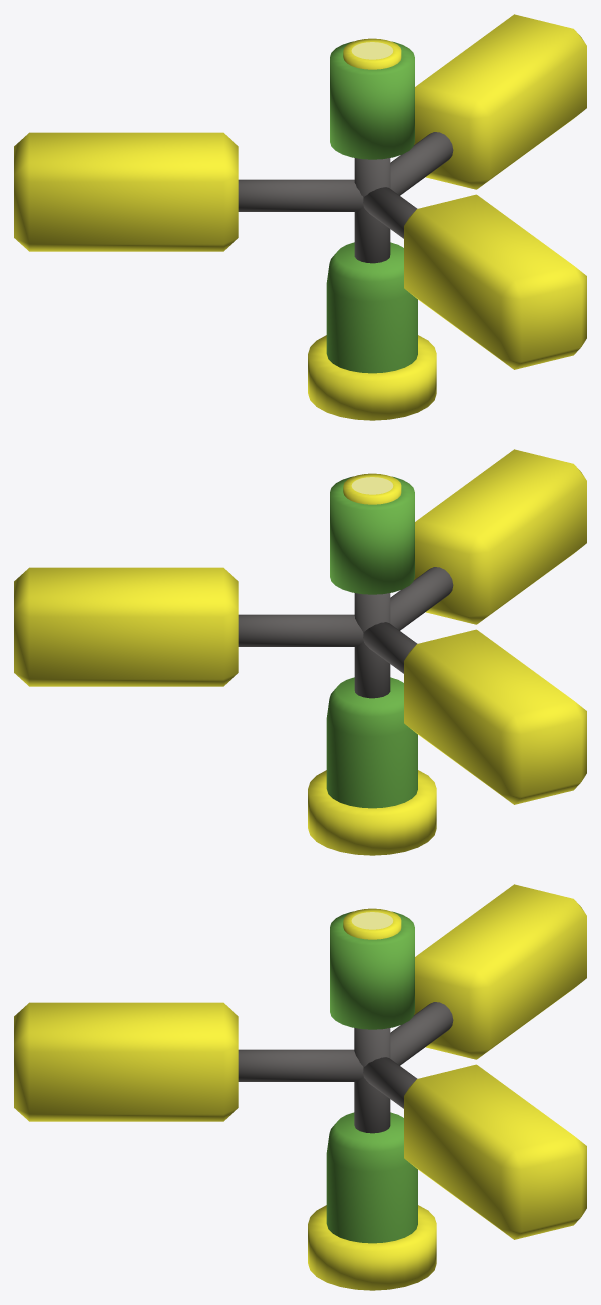
Rendered from Obstacle 12 V2.fbx.
3 views of the same model, one above another, from view 1: azimuth 30°, elevation 25°; view 2: azimuth 150°, elevation 25°; view 3: azimuth 270°, elevation 25° (orthographic).
Visible parts, largest first — view 1: O12 Part 1, O12 Part 2; view 2: O12 Part 1, O12 Part 2; view 3: O12 Part 1, O12 Part 2.
Part boxes in pixels (x1=…): O12 Part 1: x1=14, y1=14, x2=586, y2=369; O12 Part 2: x1=308, y1=38, x2=436, y2=420; O12 Part 1: x1=14, y1=449, x2=586, y2=804; O12 Part 2: x1=308, y1=473, x2=436, y2=855; O12 Part 1: x1=14, y1=884, x2=586, y2=1239; O12 Part 2: x1=308, y1=908, x2=436, y2=1290.
Size of the model in its own units: 229 by 132 by 200.
1 material, 1 textured.
